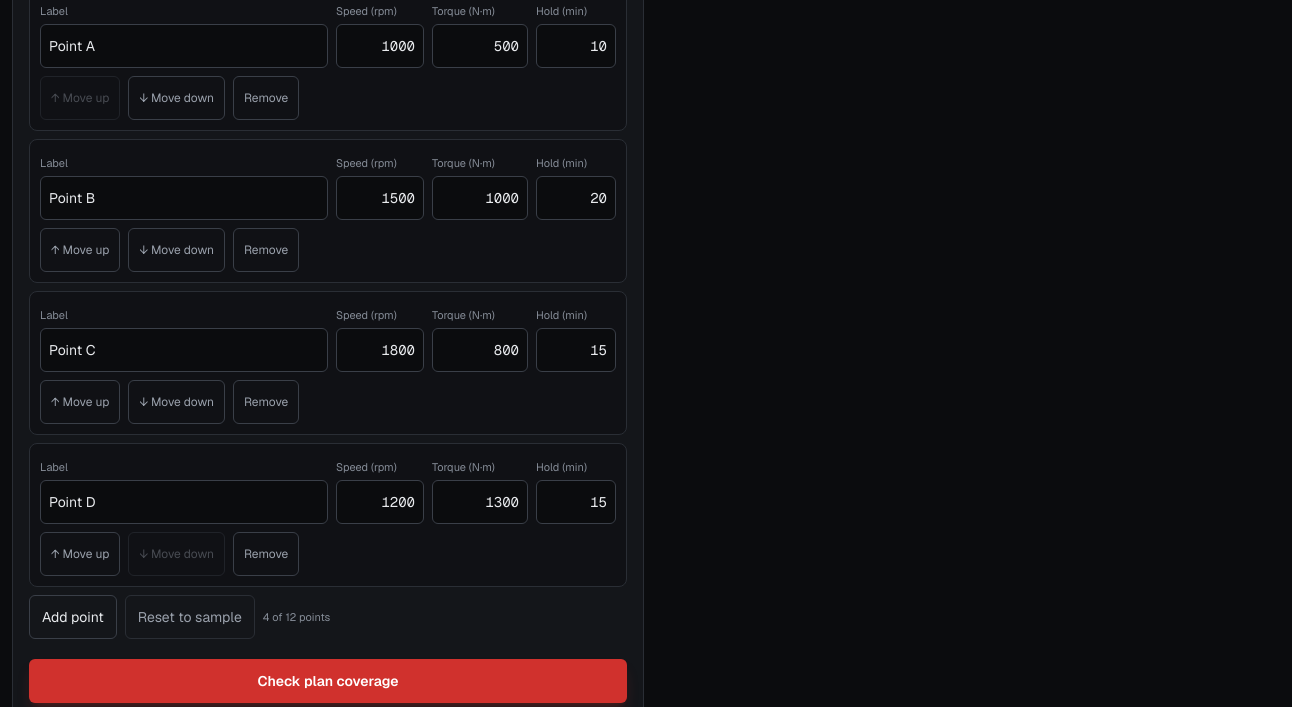
Test: Engine Test-Plan Workbench: results › sends the entered numbers to the stateless endpoint, in order
The image size is (1292, 707).
(page scrolled)
Click the button "Check plan coverage" at (328, 681), box x1=29 y1=659 x2=627 y2=703
(page scrolled)
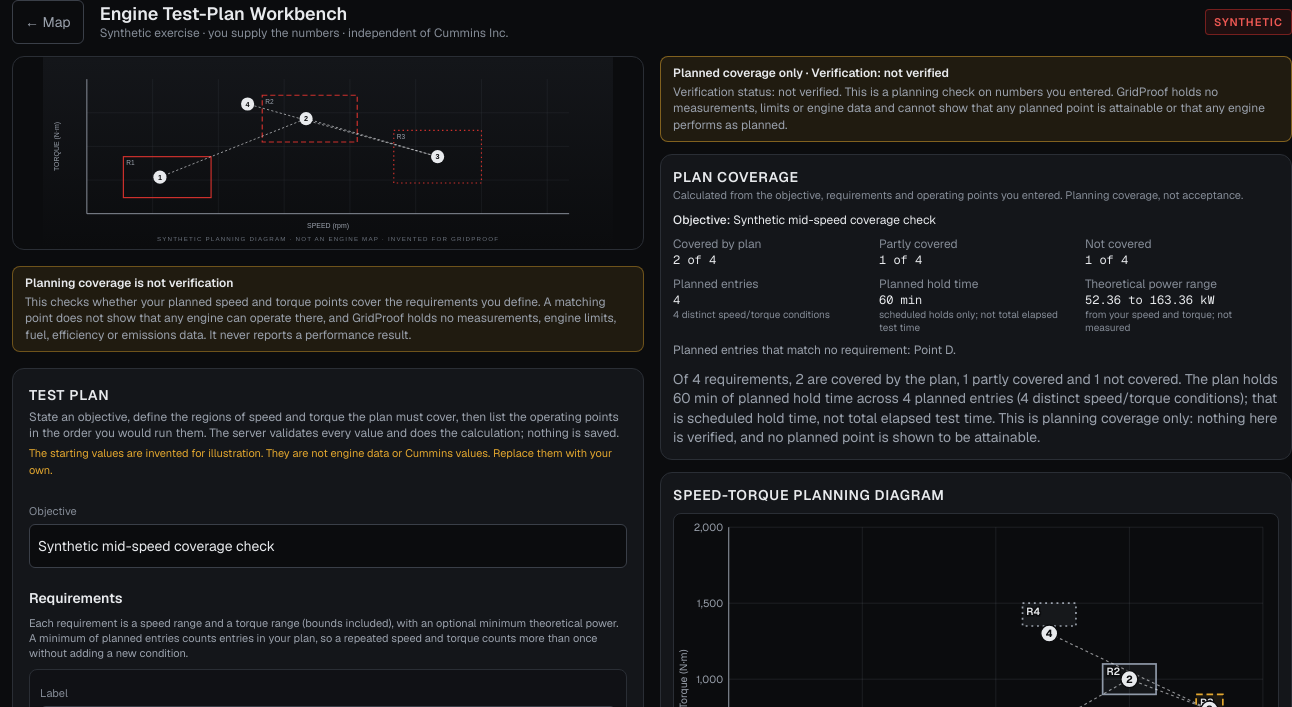
Expected: the text "Synthetic mid-speed coverage check" is shown, x1=733 y1=212 x2=936 y2=228
